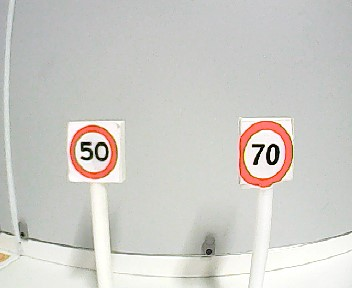50-bord: (69, 126, 118, 179)
70-bord: (239, 122, 294, 186)
